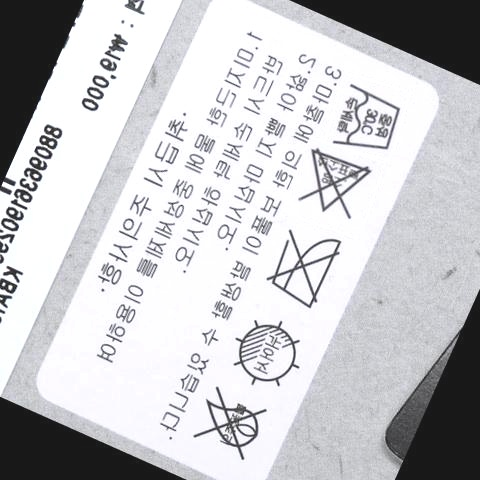DN_bleach: (305, 147, 369, 221)
DN_iron: (264, 219, 338, 309)
dry_flat_in_shade: (229, 316, 299, 384)
hand_wash: (331, 83, 399, 150)
